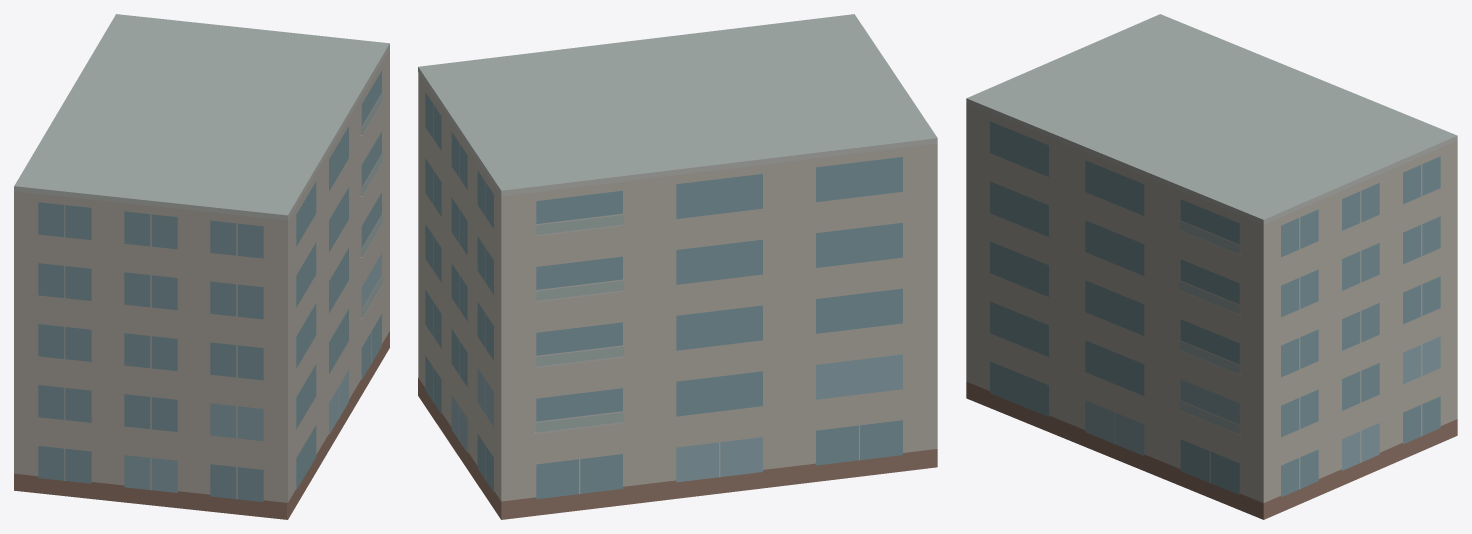
Rendered from survey-upis-32890841.glb.
3 renders of one model, left to right at view 1: azimuth 30°, elevation 25°; view 2: azimuth 150°, elevation 25°; view 3: azimuth 270°, elevation 25°, orthographic. The views are drawn at different scales.
Parts seen in each view (by area): view 1: survey-upis-32890841.tmp; view 2: survey-upis-32890841.tmp; view 3: survey-upis-32890841.tmp.
Boxes of the visible parts, <box> form: survey-upis-32890841.tmp: <box>14,14,389,519</box>; survey-upis-32890841.tmp: <box>418,14,937,519</box>; survey-upis-32890841.tmp: <box>966,14,1457,519</box>.
Bounding box in the file's own units: 21.64 × 14.7 × 21.82.
